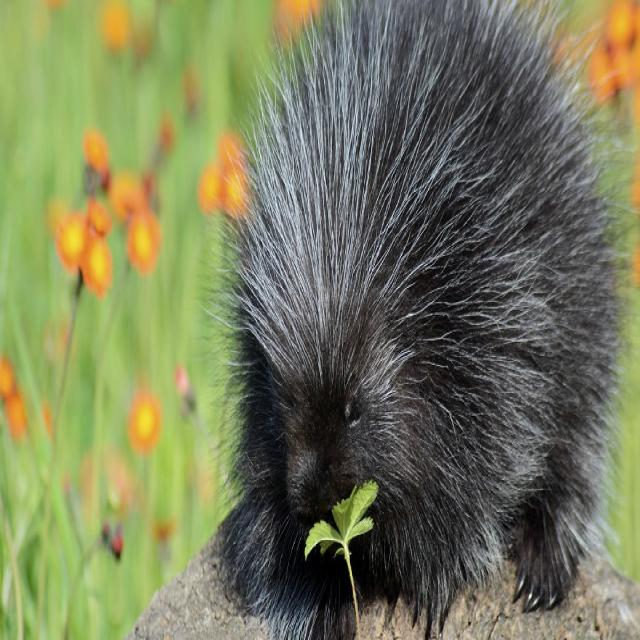porcupine: (226, 0, 618, 639)
